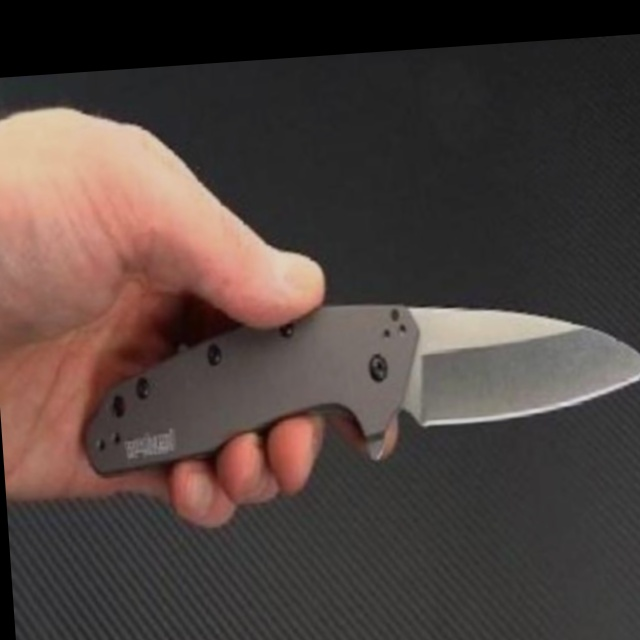Sharp-Object: (73, 287, 640, 481)
